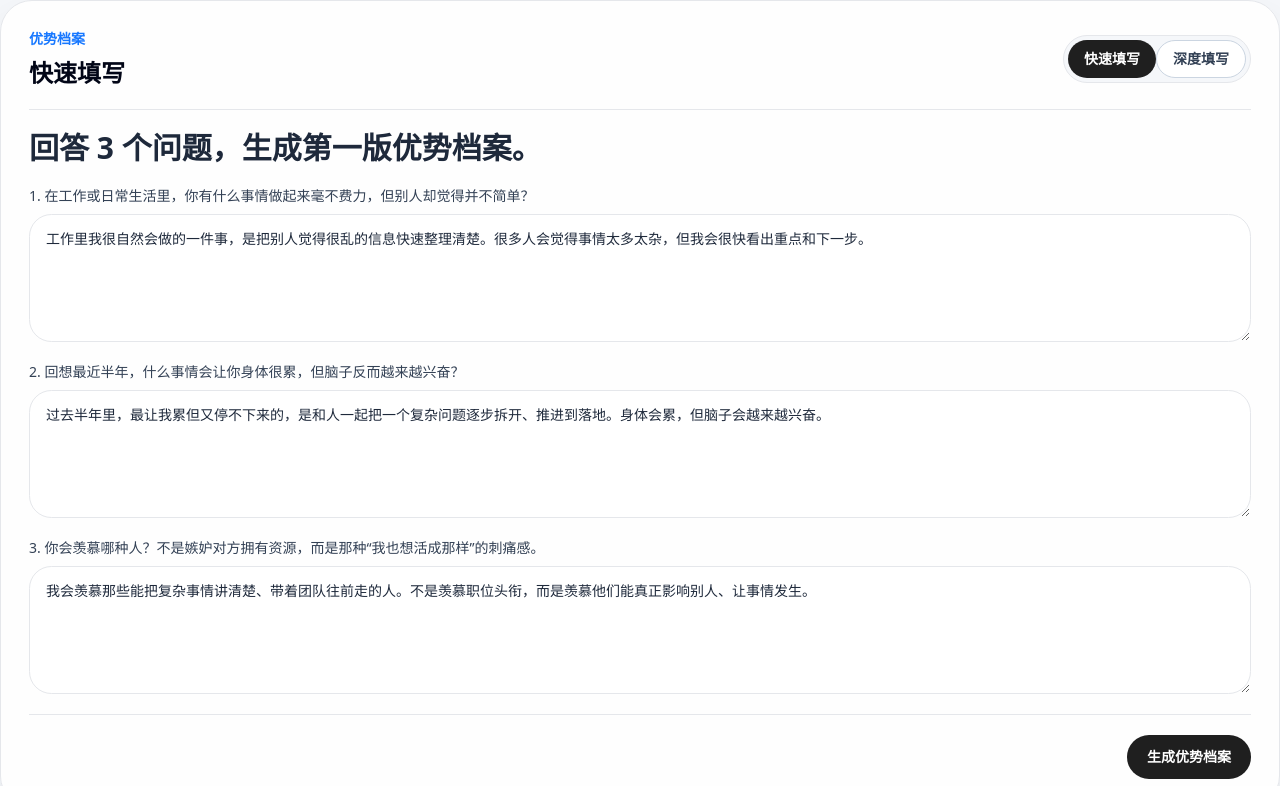
Scenario: TalentProfileWorkbench › switches into deep discovery and asks the next model-driven question
Click the button "深度填写": (1201, 59) 1156,40 -> 1246,78
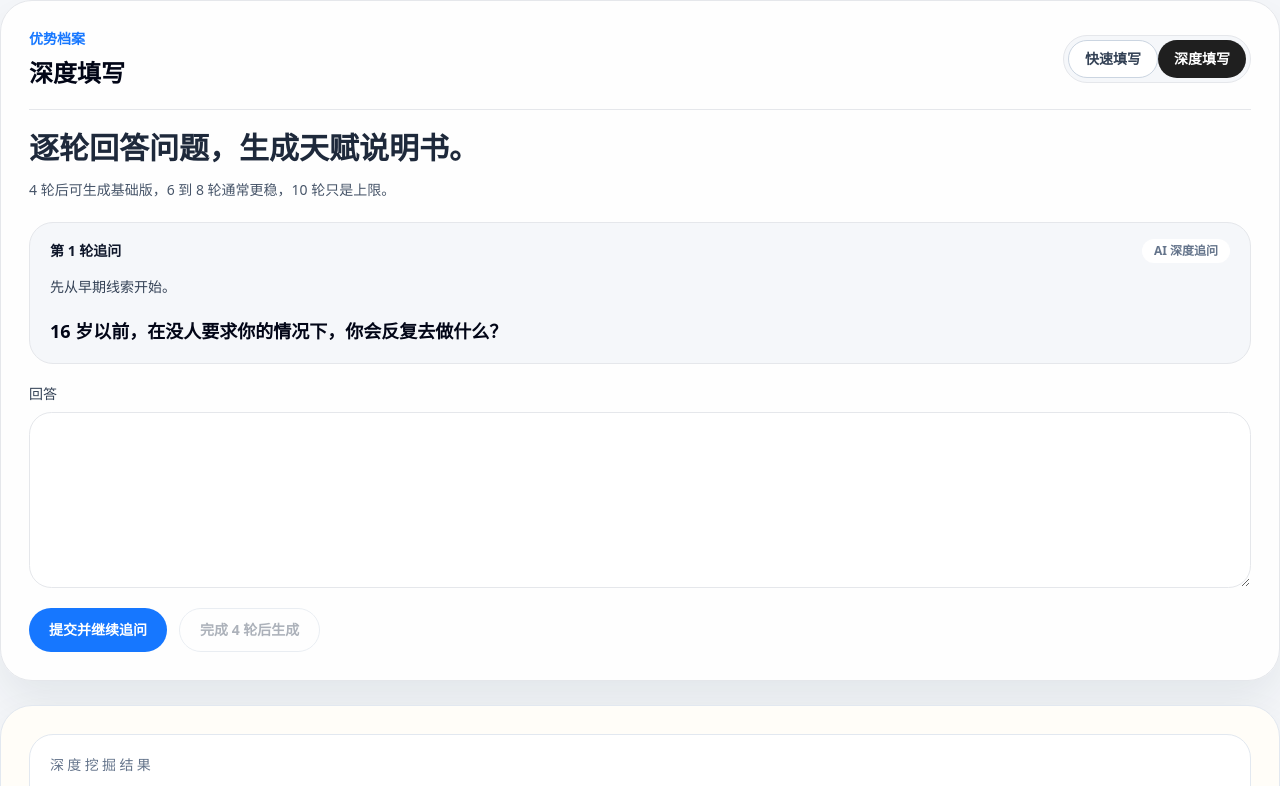
Expected: the heading "逐轮回答问题，生成天赋说明书。" is shown, 29,127 -> 479,168
Expected: the text "16 岁以前，在没人要求你的情况下，你会反复去做什么？" is shown, 50,319 -> 507,343
Expected: the text "AI 深度追问" is shown, 1142,239 -> 1230,263
